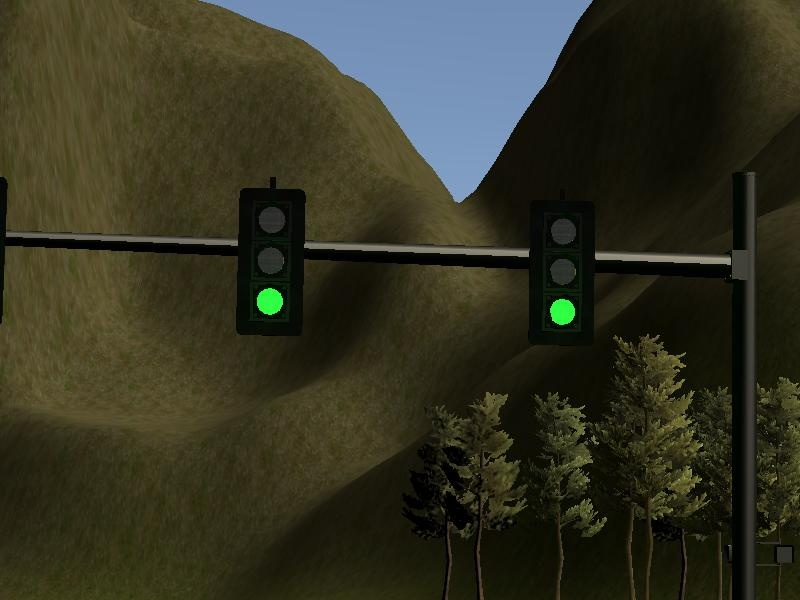green: (530, 196, 600, 344), (240, 188, 307, 341)
